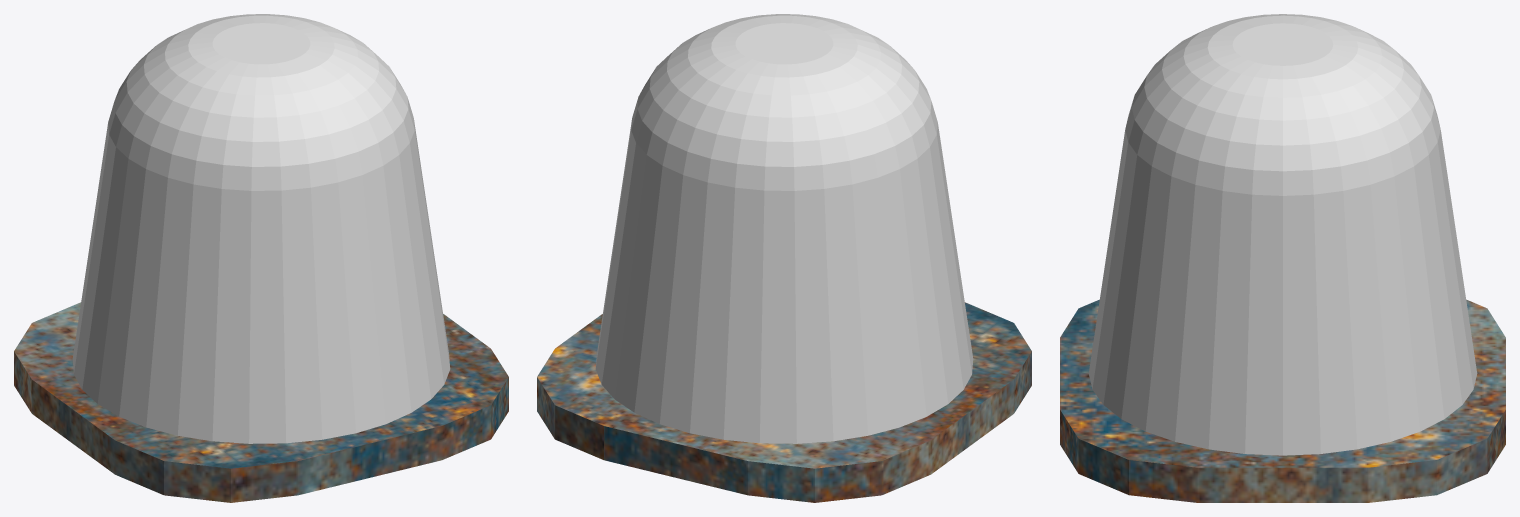
The model's file is alarm.fbx.
3 views of the same model, side by side, from view 1: azimuth 30°, elevation 25°; view 2: azimuth 150°, elevation 25°; view 3: azimuth 270°, elevation 25° (orthographic). The views are drawn at different scales.
Parts seen in each view (by area): view 1: alarm, panel_alarm; view 2: alarm, panel_alarm; view 3: alarm, panel_alarm.
Boxes of the visible parts, <box> form: alarm: <box>72,14,450,443</box>; panel_alarm: <box>14,302,508,502</box>; alarm: <box>595,14,973,443</box>; panel_alarm: <box>537,302,1031,502</box>; alarm: <box>1088,14,1477,455</box>; panel_alarm: <box>1060,299,1505,502</box>.
Bounding box in the file's own units: 27.14 × 24.46 × 27.14.
